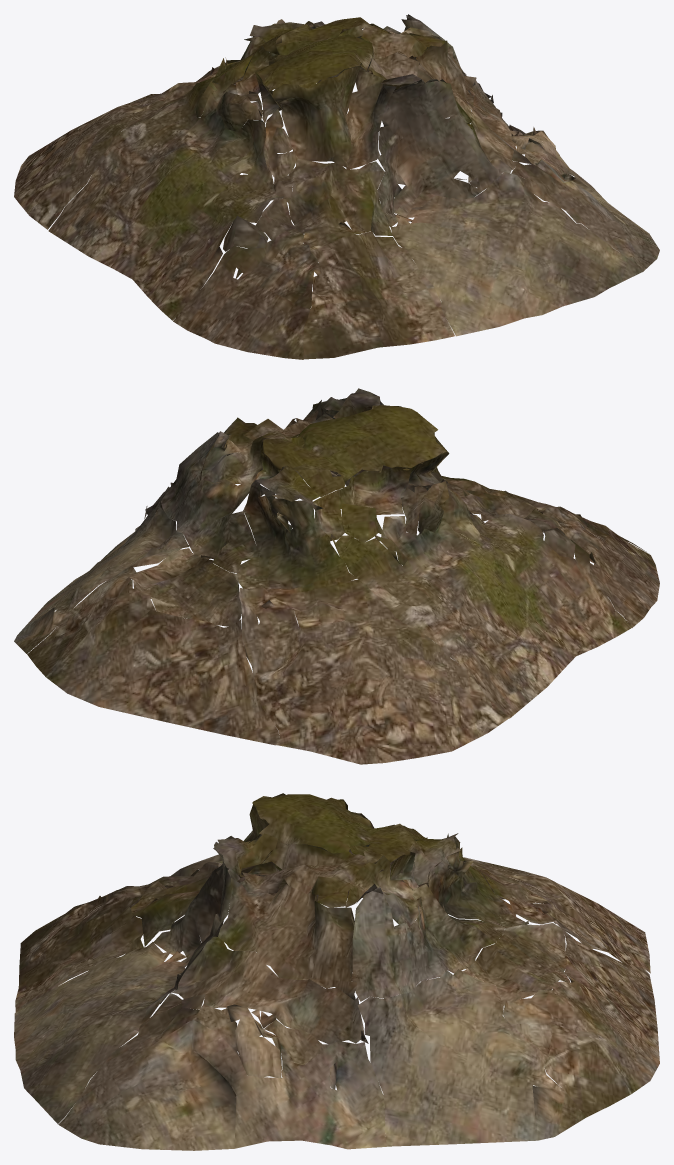
The model's file is tree_stump_01.glb.
The picture shows the model from 3 angles, top to bottom: view 1: azimuth 30°, elevation 25°; view 2: azimuth 150°, elevation 25°; view 3: azimuth 270°, elevation 25°; orthographic projection. The views are drawn at different scales.
Parts seen in each view (by area): view 1: tree_stump_01; view 2: tree_stump_01; view 3: tree_stump_01.
Boxes of the visible parts, x1,y1,x2,y2 form: tree_stump_01: (14, 14, 659, 359); tree_stump_01: (14, 388, 659, 764); tree_stump_01: (14, 793, 659, 1150).
Bounding box in the file's own units: 1.42 × 0.571 × 1.59.
Materials: 1 (1 with a texture image).
